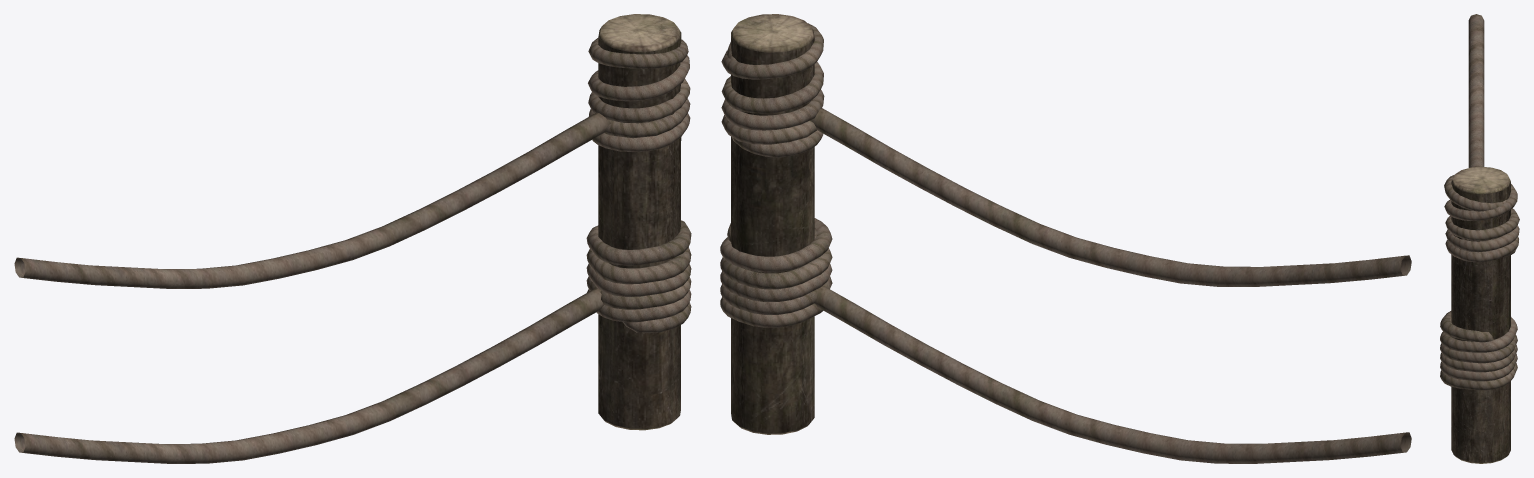
Rendered from rope_fence03.fbx.
3 views of the same model, side by side, from view 1: azimuth 30°, elevation 25°; view 2: azimuth 150°, elevation 25°; view 3: azimuth 270°, elevation 25° (orthographic). The views are drawn at different scales.
Visible parts, largest first — view 1: rope_fence03; view 2: rope_fence03; view 3: rope_fence03.
Part boxes in pixels (box(x1,y1,x2,y2)): rope_fence03: box(14, 14, 691, 463); rope_fence03: box(720, 14, 1411, 463); rope_fence03: box(1440, 14, 1519, 463).
Size of the model in its own units: 215 by 118 by 31.22.
